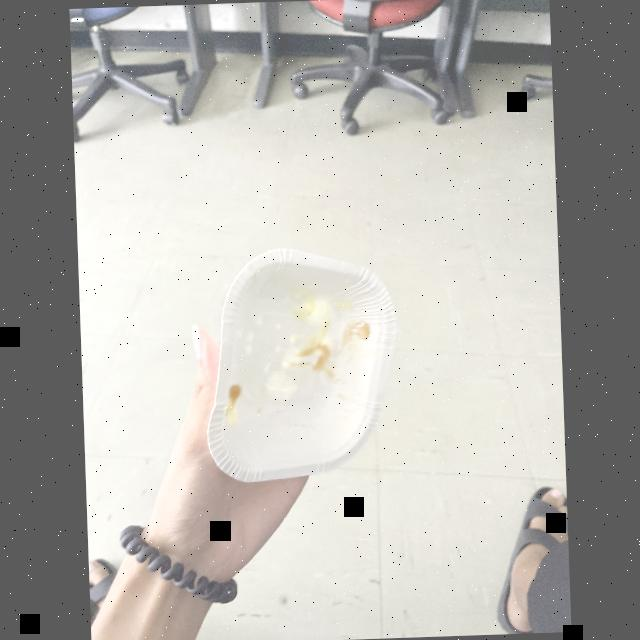cardboard_bowl: (202, 243, 403, 488)
